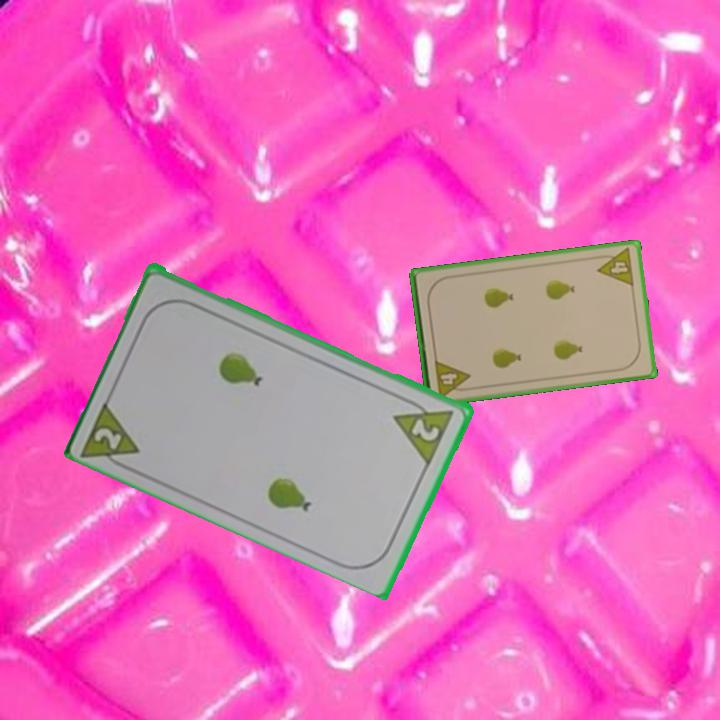2p: (78, 394, 144, 475), (390, 392, 458, 466)
4p: (593, 245, 637, 289), (431, 356, 474, 400)
